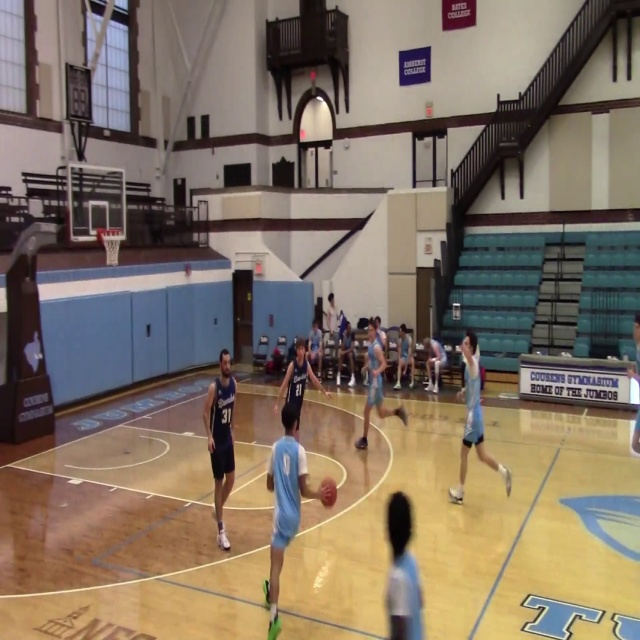Basketball: (319, 476, 337, 506), (266, 474, 274, 491)
